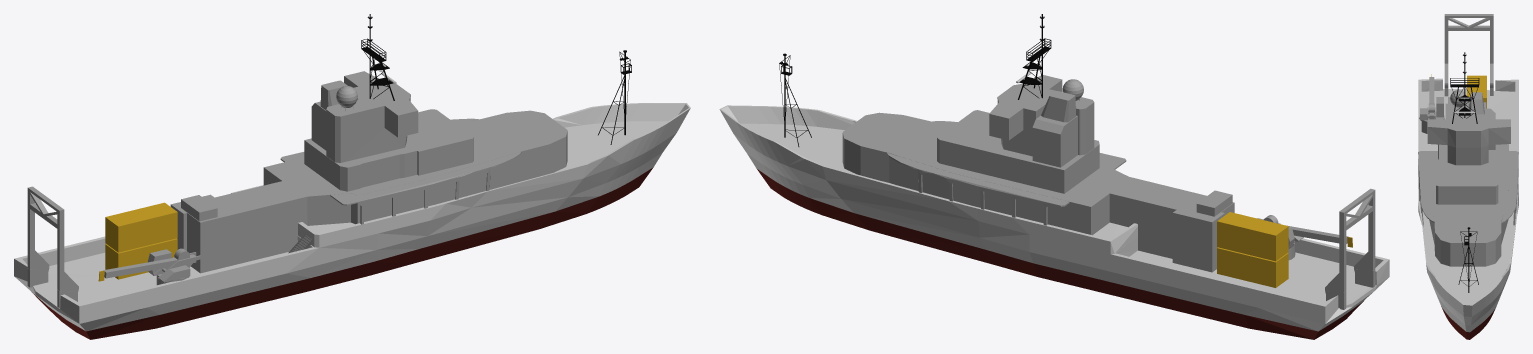
Rendered from Tom_new.dae.
3 renders of one model, left to right at view 1: azimuth 30°, elevation 25°; view 2: azimuth 150°, elevation 25°; view 3: azimuth 270°, elevation 25°, orthographic. The views are drawn at different scales.
Visible parts, largest first — view 1: instance_0 (×12); view 2: instance_0 (×12); view 3: instance_0 (×18).
Part boxes in pixels (<box>): instance_0 (×12): <box>14,71,690,339</box>; instance_0 (×12): <box>719,75,1389,339</box>; instance_0 (×18): <box>1418,14,1518,339</box>.
Bounding box in the file's own units: 45.78 × 8.01 × 16.25.
